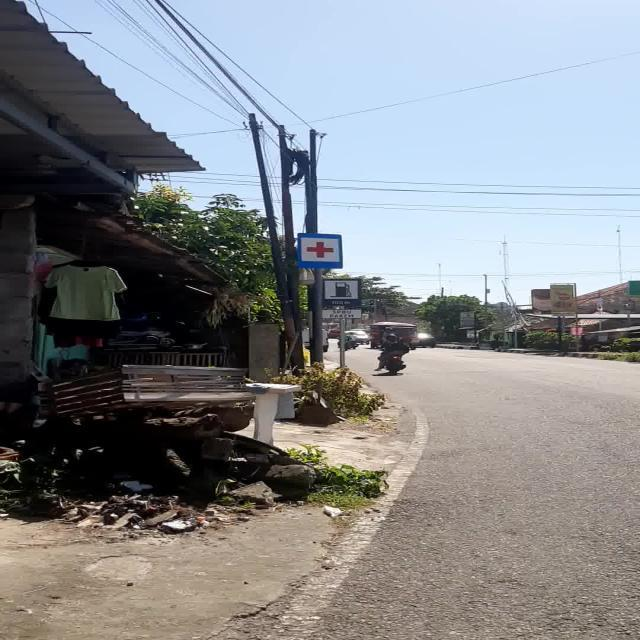Balai Pertolongan Pertama: (297, 234, 343, 268)
